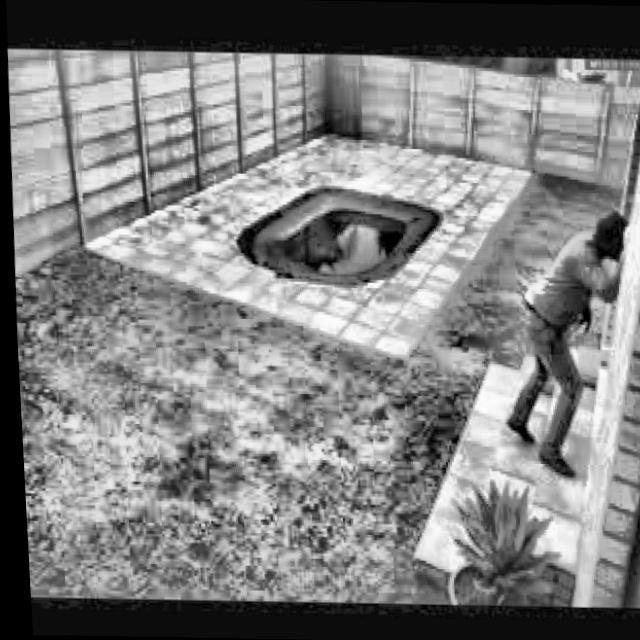burglary: (479, 191, 640, 492)
